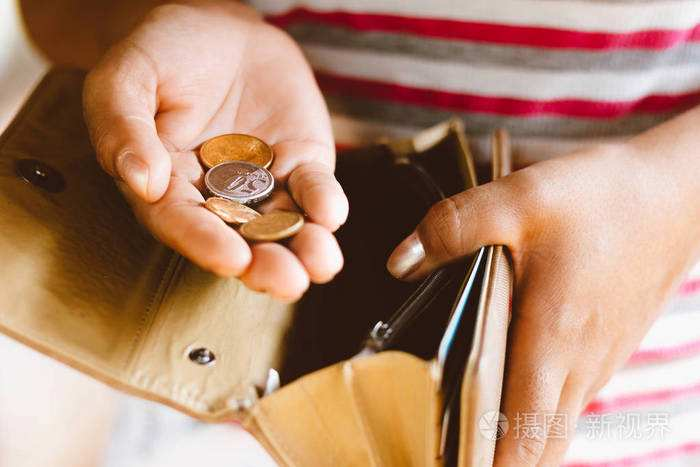no-phone: (386, 109, 697, 467)
